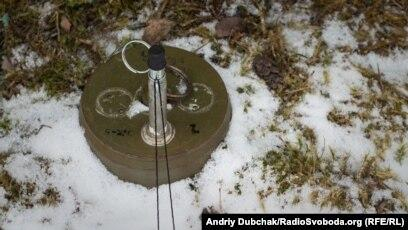OZM 72: (79, 40, 234, 189)
